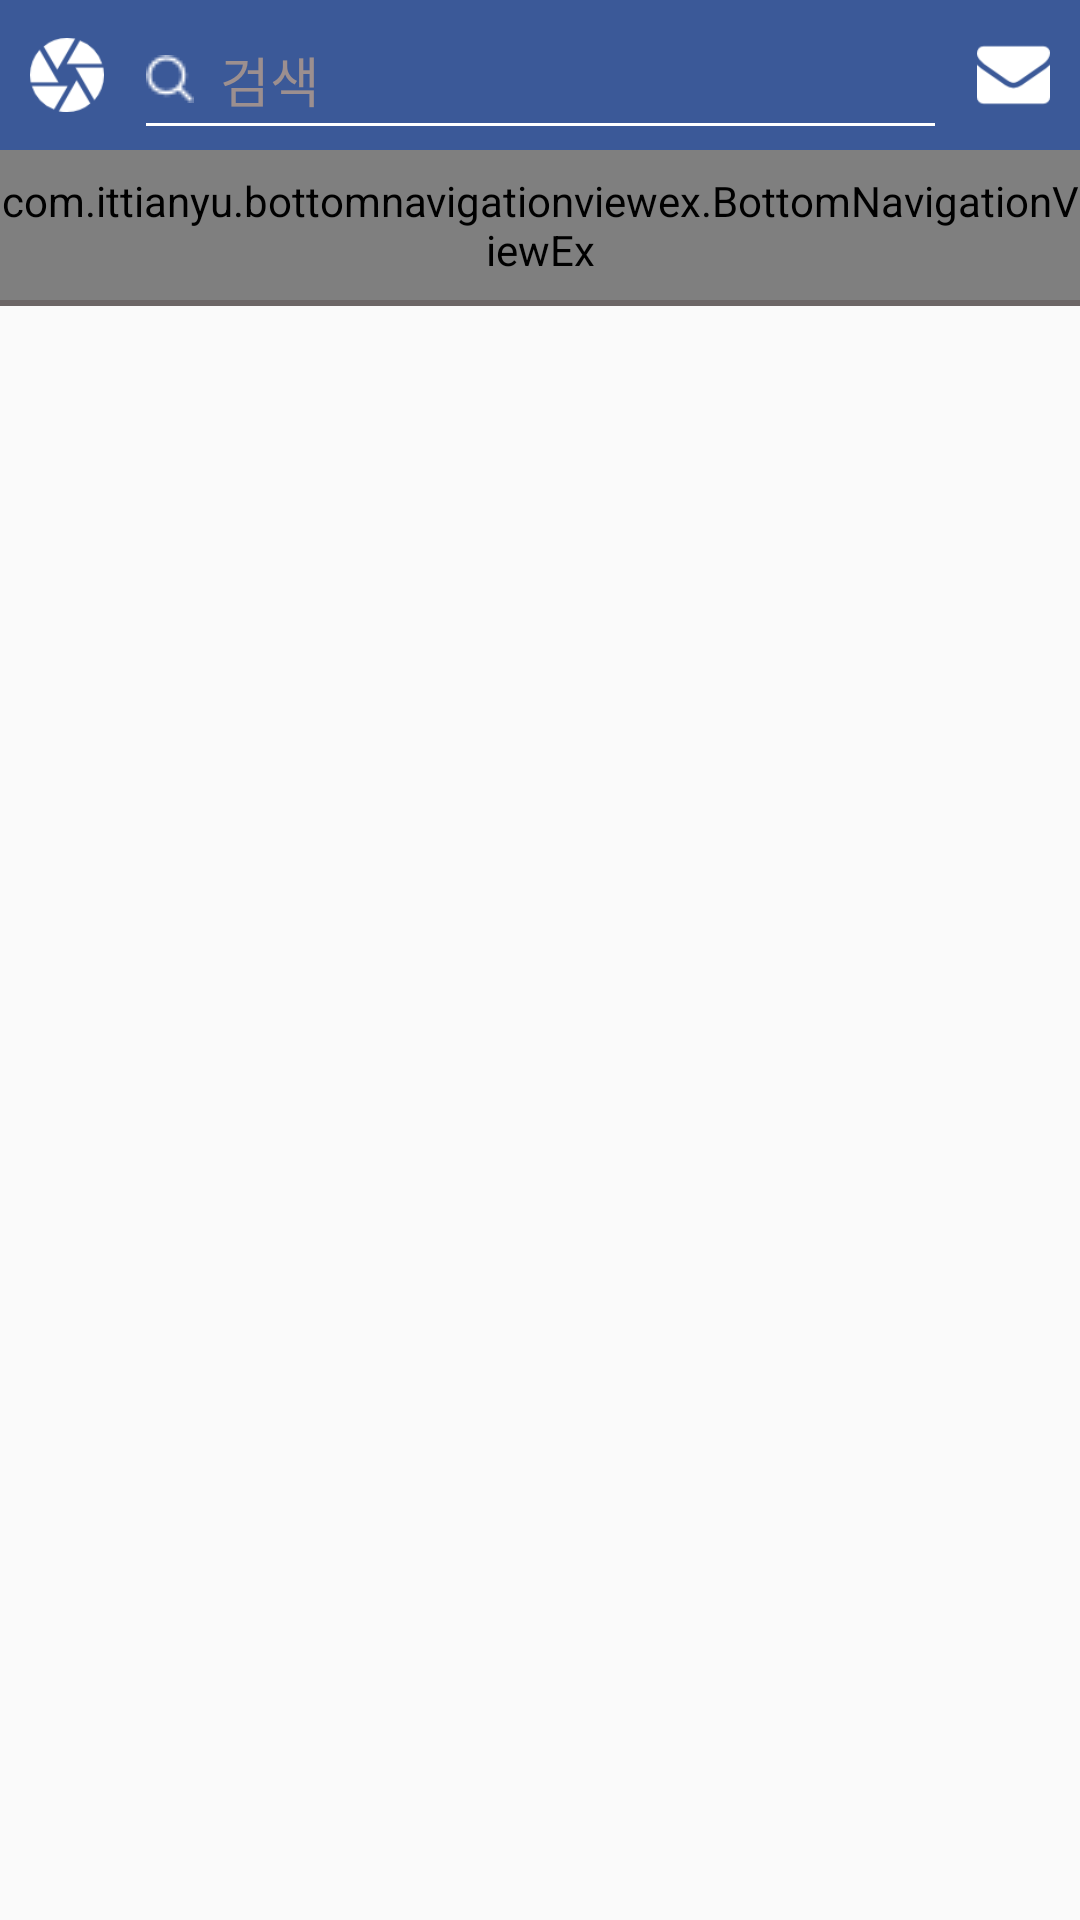

Icons on this 1080px x 1920px Android screen, each with its box as (x1, y1, x2, y2):
camera: (30, 38, 104, 112)
message: (977, 46, 1050, 104)
